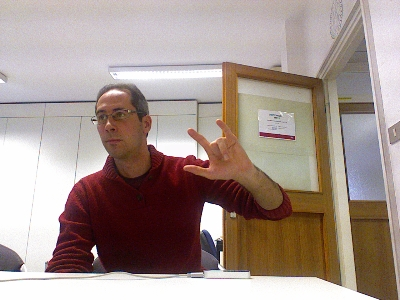我爱你: (181, 117, 252, 181)
